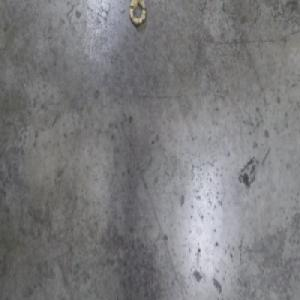Nut: (128, 0, 146, 30)
